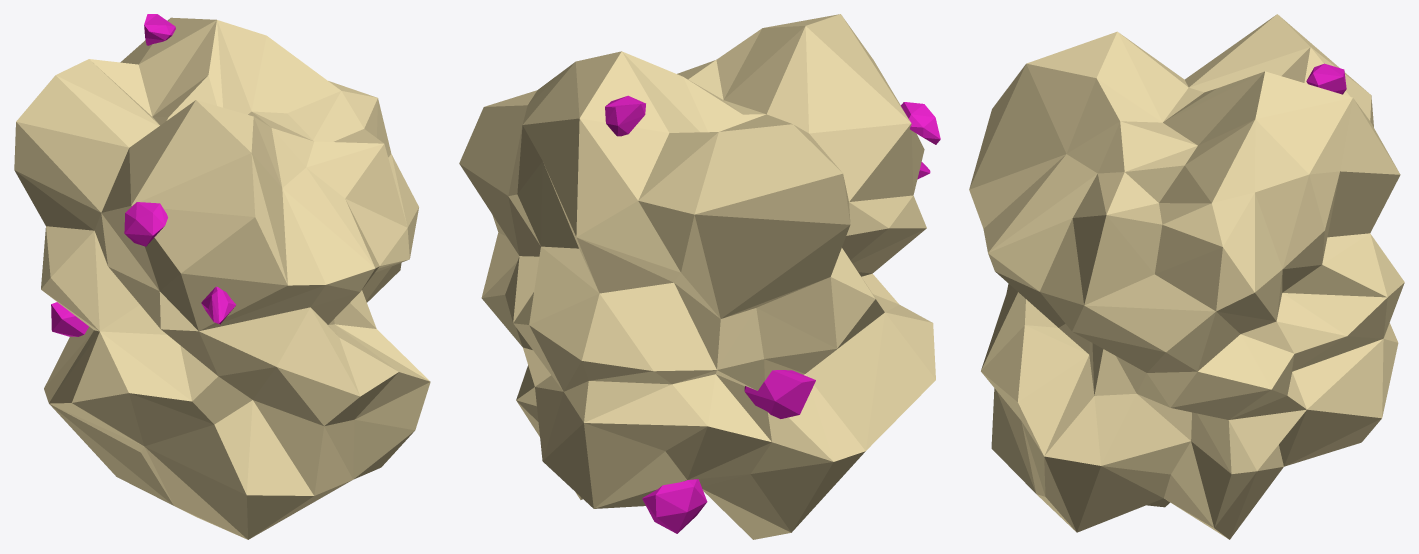
File: CrystalOre (62).fbx
3 renders of one model, left to right at view 1: azimuth 30°, elevation 25°; view 2: azimuth 150°, elevation 25°; view 3: azimuth 270°, elevation 25°, orthographic. The views are drawn at different scales.
Parts seen in each view (by area): view 1: Asteroid282; view 2: Asteroid282; view 3: Asteroid282.
Part boxes in pixels (x1,y1,x2,y2): Asteroid282: (14, 14, 430, 539); Asteroid282: (459, 14, 940, 539); Asteroid282: (969, 14, 1404, 539).
Bounding box in the file's own units: 342 × 399 × 335.
